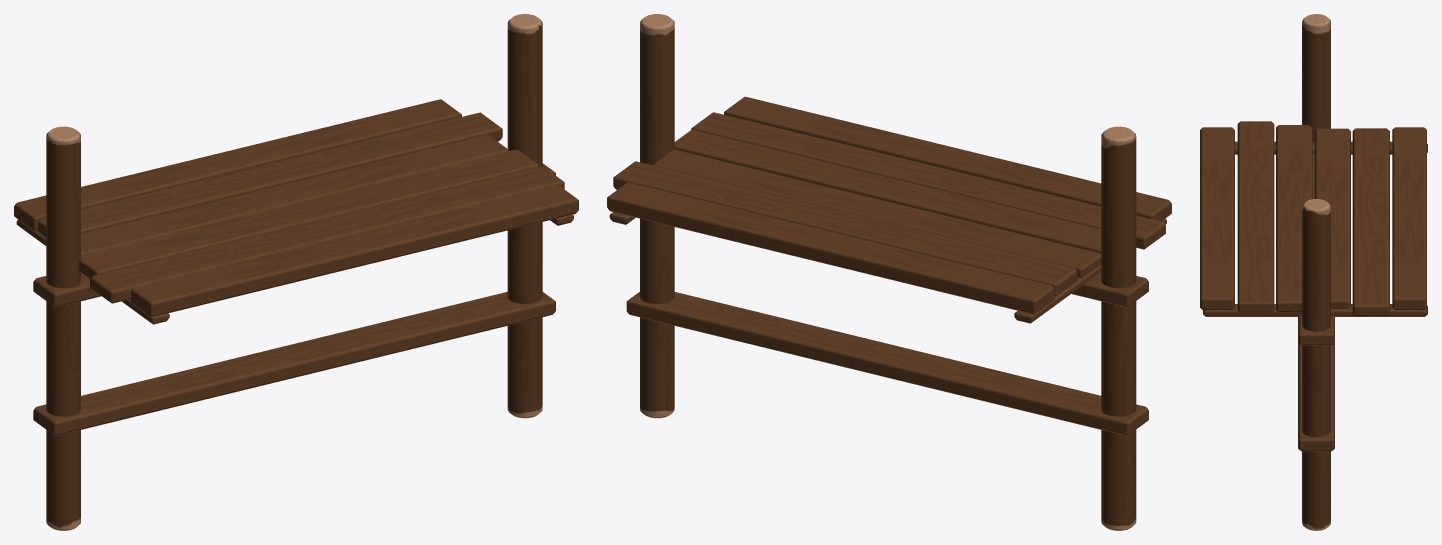
Rendered from M_Wide_Medium_High_1.fbx.
The picture shows the model from 3 angles, left to right: view 1: azimuth 30°, elevation 25°; view 2: azimuth 150°, elevation 25°; view 3: azimuth 270°, elevation 25°; orthographic projection. The views are drawn at different scales.
Visible parts, largest first — view 1: M_Wide_Medium_High_1; view 2: M_Wide_Medium_High_1; view 3: M_Wide_Medium_High_1.
Part boxes in pixels (<box>): M_Wide_Medium_High_1: <box>14,14,578,530</box>; M_Wide_Medium_High_1: <box>607,14,1171,530</box>; M_Wide_Medium_High_1: <box>1200,14,1427,530</box>.
Bounding box in the file's own units: 820 × 611 × 391.
